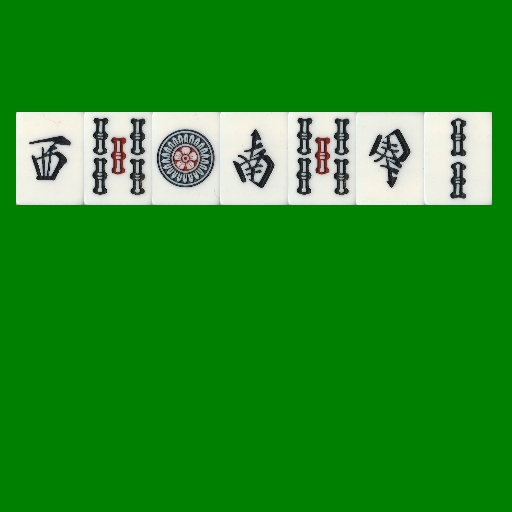1p: (152, 112, 220, 205)
2s: (424, 112, 492, 205)
5s: (84, 112, 152, 205), (288, 112, 356, 205)
south: (220, 112, 288, 205), (356, 112, 424, 205)
west: (16, 112, 84, 205)
